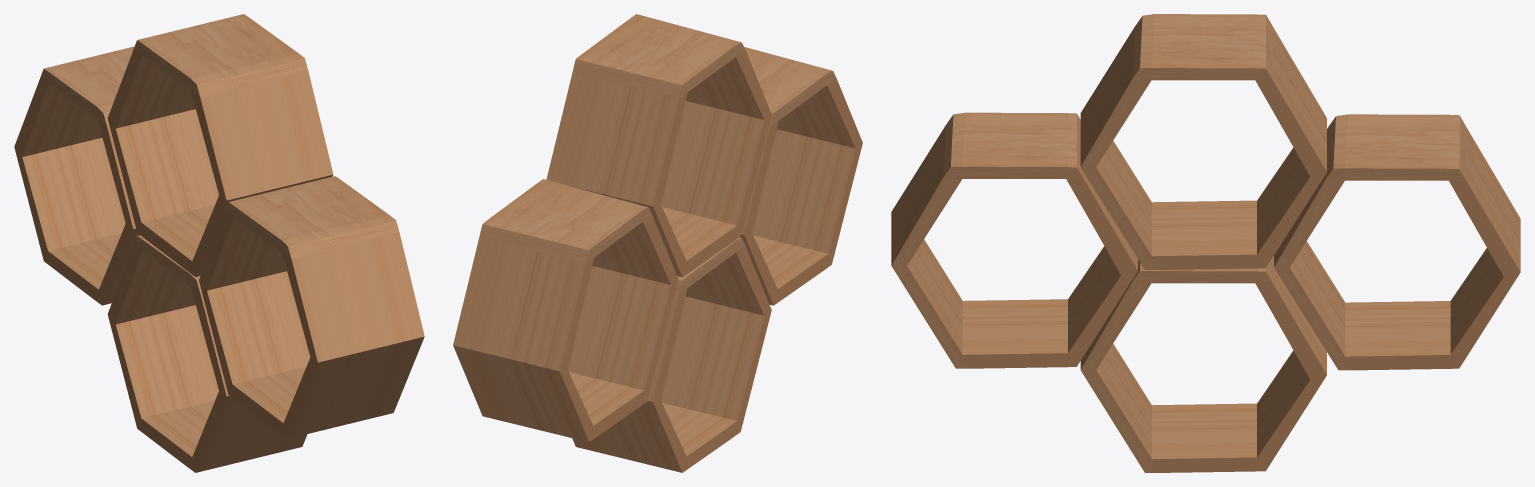
Rendered from repisas.gltf.
The picture shows the model from 3 angles, left to right: view 1: azimuth 30°, elevation 25°; view 2: azimuth 150°, elevation 25°; view 3: azimuth 270°, elevation 25°; orthographic projection. The views are drawn at different scales.
Parts seen in each view (by area): view 1: Cube.045; view 2: Cube.045; view 3: Cube.045.
Boxes of the visible parts, x1,y1,x2,y2 form: Cube.045: [14, 14, 424, 472]; Cube.045: [453, 14, 862, 472]; Cube.045: [891, 14, 1520, 472].
Bounding box in the file's own units: 2 × 6.99 × 9.84.
4 materials, 4 textured.
